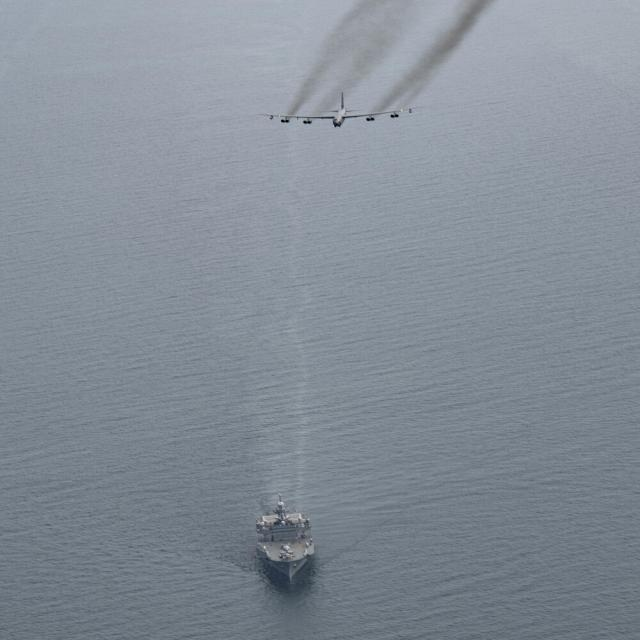MIL_Plane: (258, 91, 424, 128)
